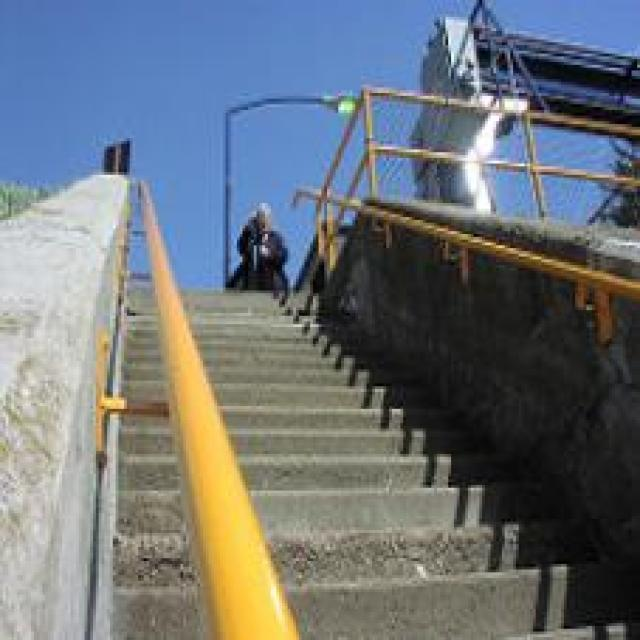stair: (108, 260, 636, 638)
